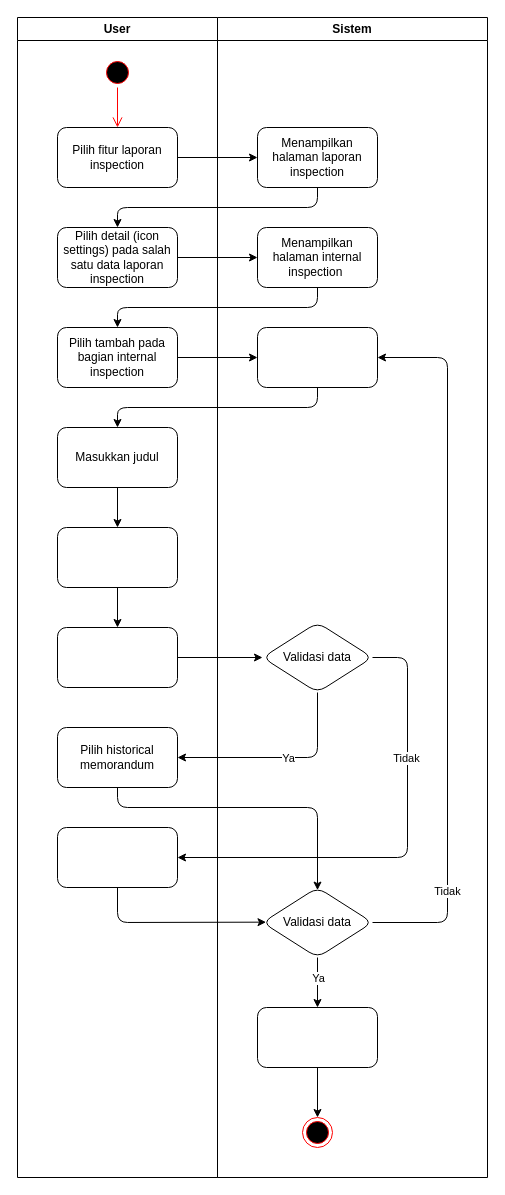
This 505x1195 diagram has some shape labels left out. The shapes that lost their labels are listed below. From the top down, each one's centre as x and y in pixels, then its label:
At point 317,357: "Menampilkan tambah data halaman internal inspection".
At point 117,557: "Masukkan inspection date".
At point 117,657: "Pilih memo".
At point 117,857: "Unggah laporan file".
At point 317,1037: "Berhasil menyimpan data internal inspection".
